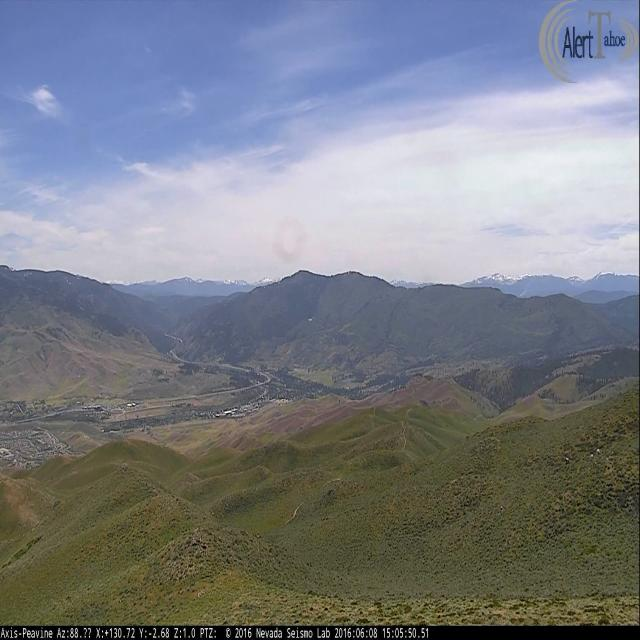smoke: (518, 284, 527, 297)
